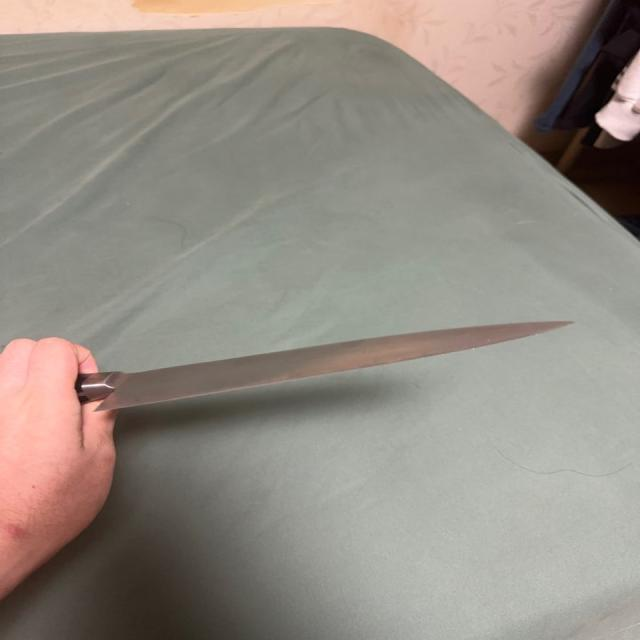knife: (60, 320, 582, 417)
